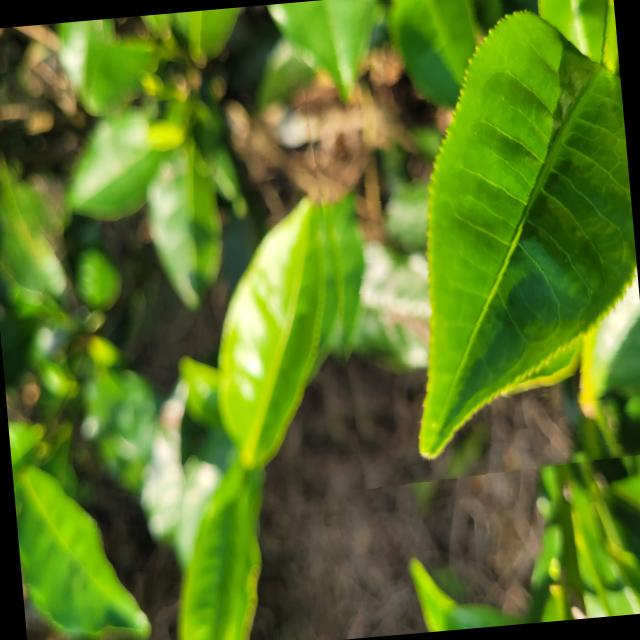Category B(2-4 days): (290, 0, 640, 490)
